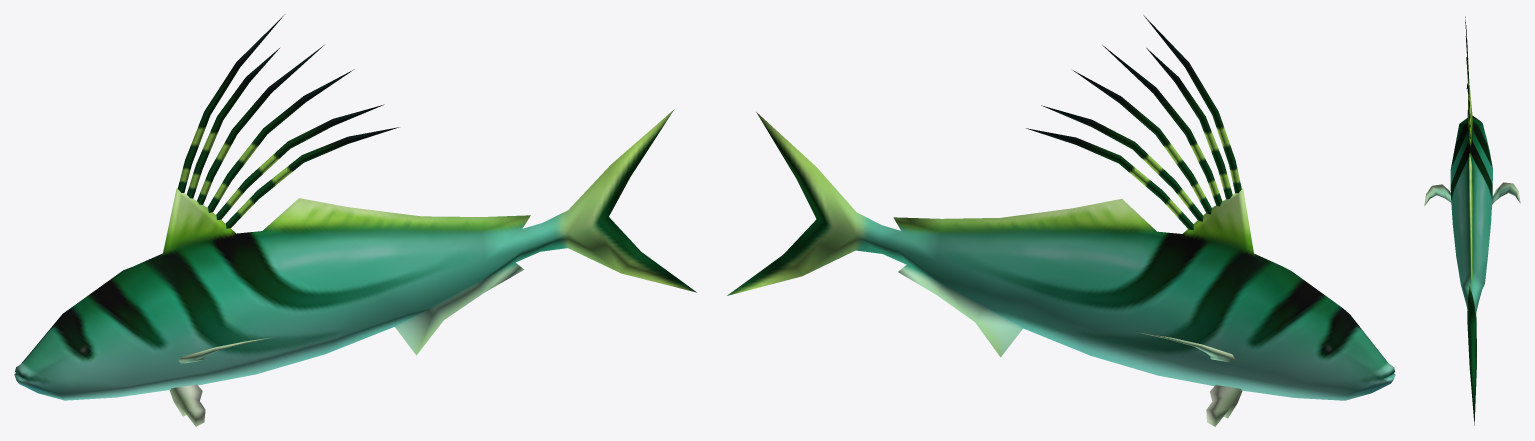
Rendered from f01_sifanyu.FBX.
The picture shows the model from 3 angles, left to right: view 1: azimuth 30°, elevation 25°; view 2: azimuth 150°, elevation 25°; view 3: azimuth 270°, elevation 25°; orthographic projection. The views are drawn at different scales.
Parts seen in each view (by area): view 1: f01_sifanyu; view 2: f01_sifanyu; view 3: f01_sifanyu.
Boxes of the visible parts, left/top/right/bottom form: f01_sifanyu: left=14, top=14, right=696, bottom=426; f01_sifanyu: left=727, top=15, right=1395, bottom=426; f01_sifanyu: left=1424, top=16, right=1520, bottom=425.
Size of the model in its own units: 126 by 69.27 by 22.09.
Materials: 1 (1 with a texture image).
